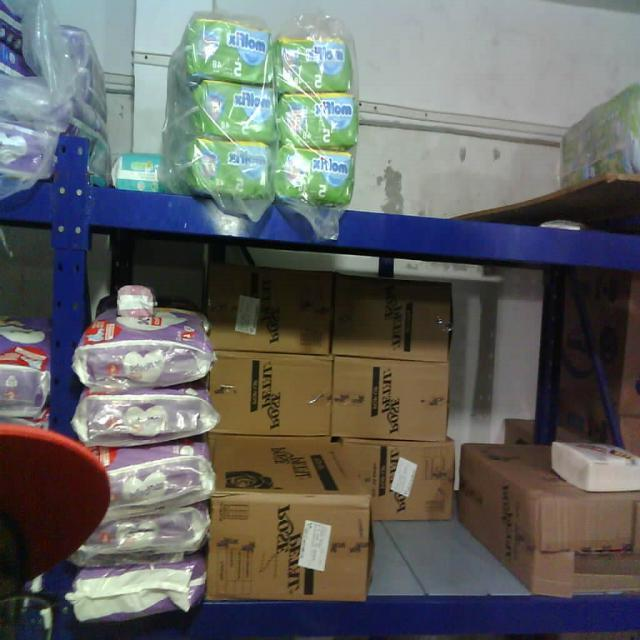cardboxes: (205, 492, 373, 602), (206, 261, 334, 358), (329, 276, 454, 358), (206, 356, 334, 436), (330, 360, 450, 442), (366, 439, 456, 519)
